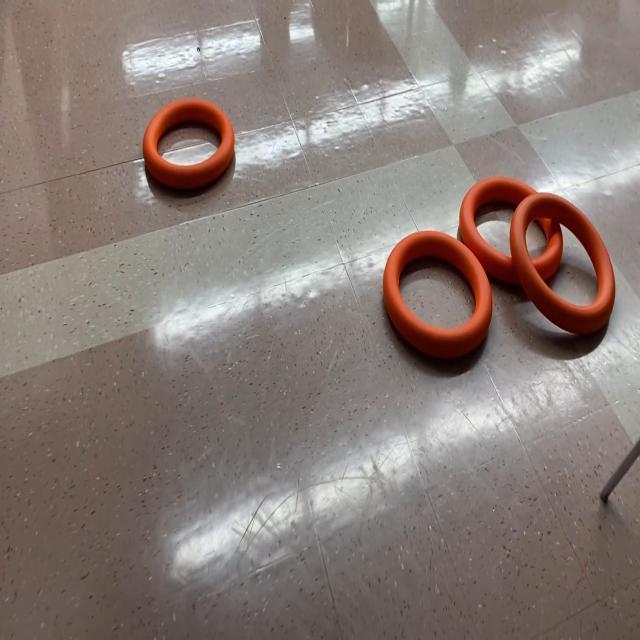note: (506, 191, 616, 341), (382, 230, 492, 360), (460, 175, 562, 284), (142, 96, 236, 194)
